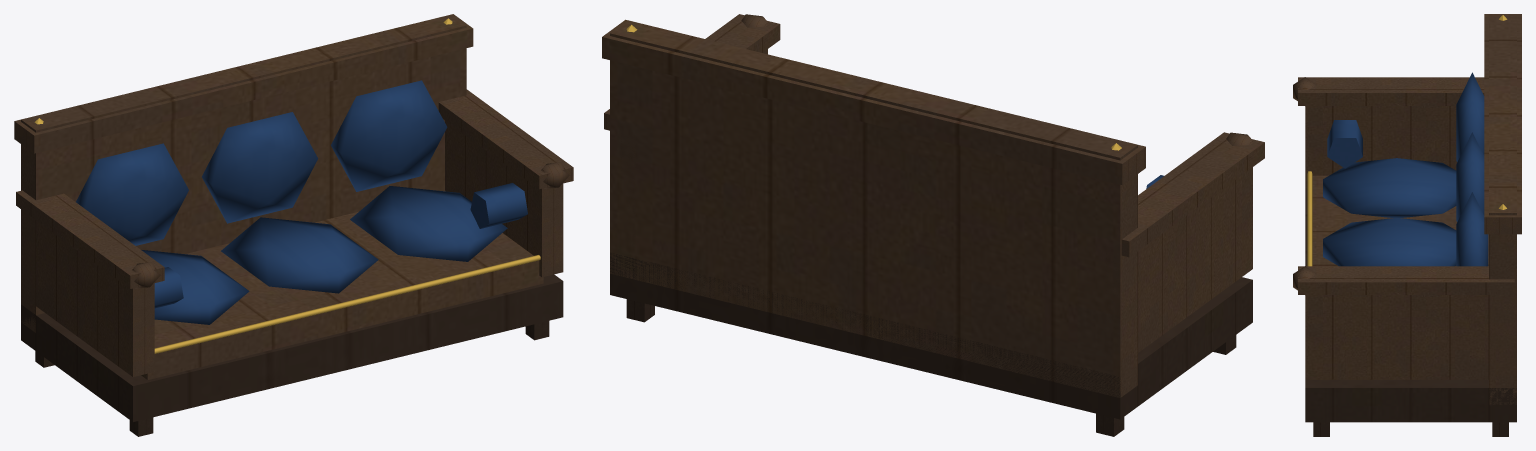
File: sofa_lod2.glb
3 renders of one model, left to right at view 1: azimuth 30°, elevation 25°; view 2: azimuth 150°, elevation 25°; view 3: azimuth 270°, elevation 25°, orthographic. The views are drawn at different scales.
Parts seen in each view (by area): view 1: sofa; view 2: sofa; view 3: sofa.
Part boxes in pixels (<box>): sofa: <box>14,14,573,436</box>; sofa: <box>602,14,1264,436</box>; sofa: <box>1293,14,1521,436</box>.
Bounding box in the file's own units: 2.06 × 1.09 × 0.971.
Materials: 1 (1 with a texture image).
